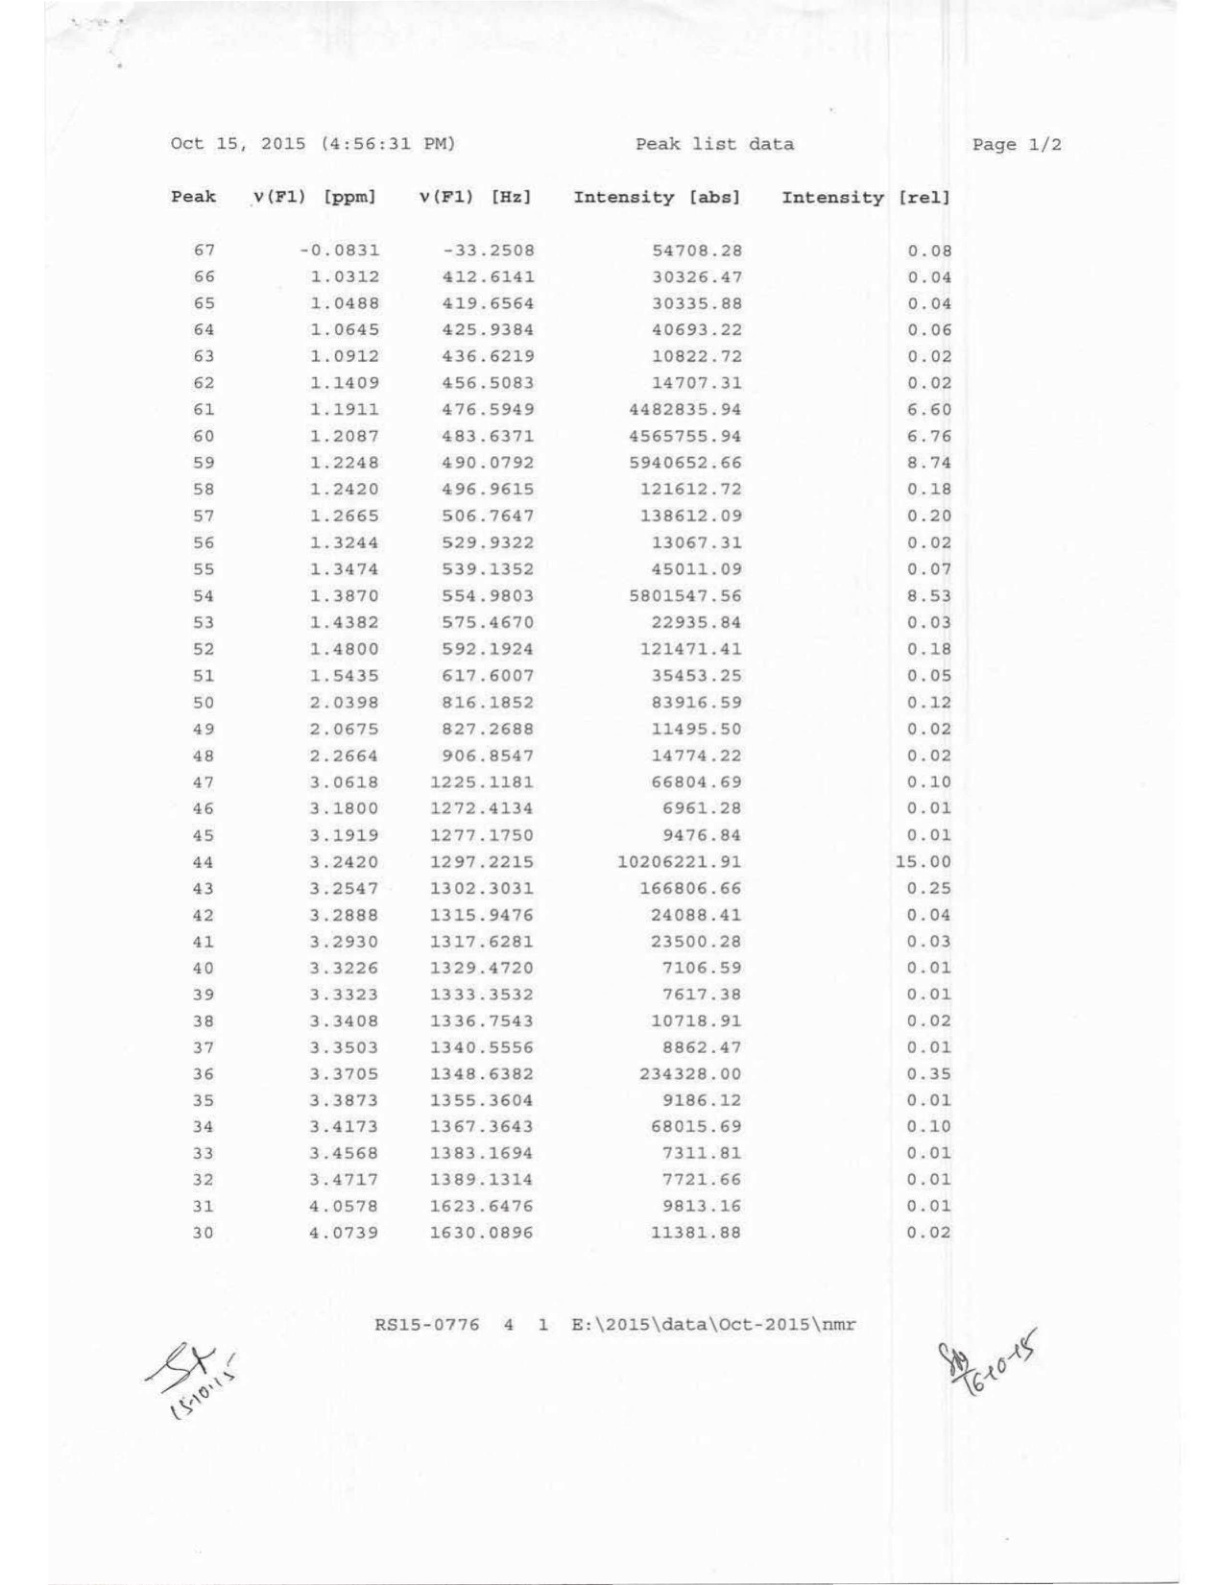nolines: (167, 186, 958, 1243)
